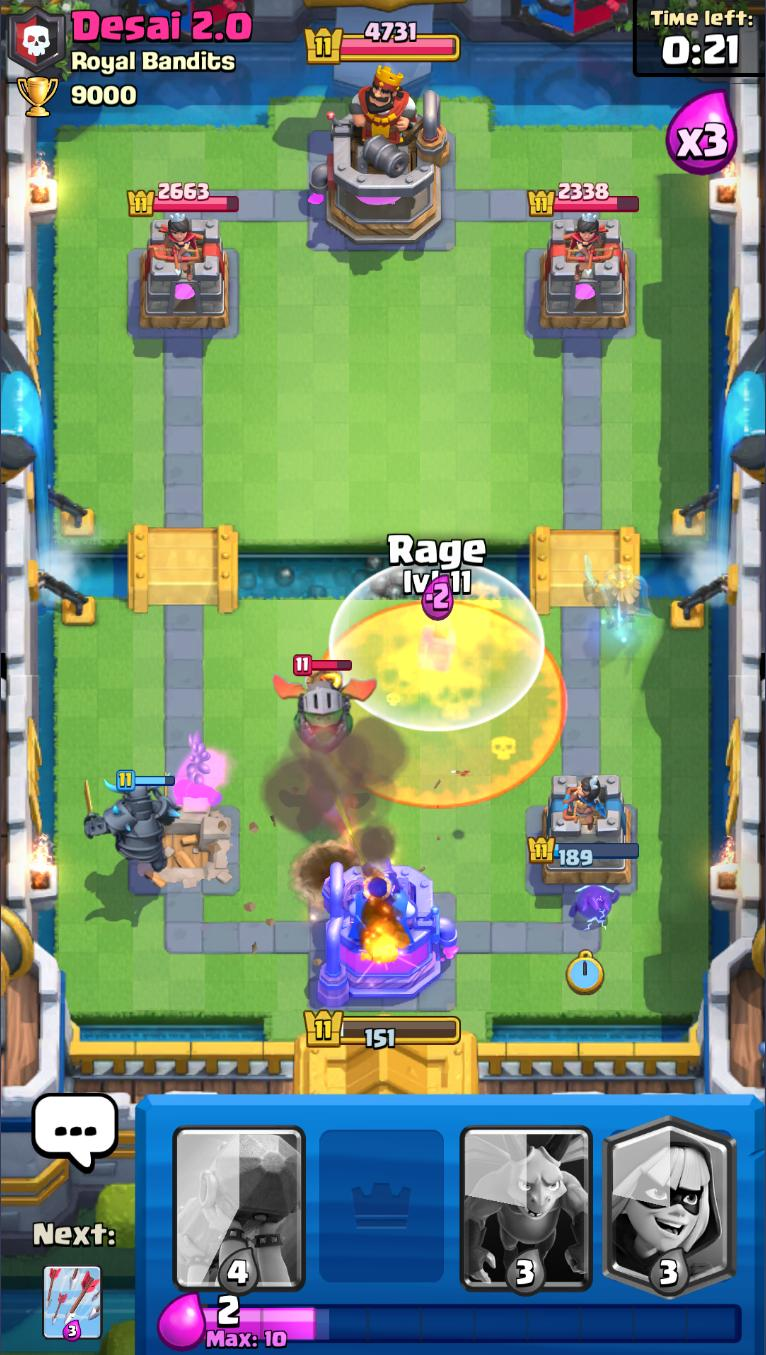ArrowNext: (41, 1264, 104, 1342)
BanditDeck: (598, 1095, 743, 1296)
BattleRamDeck: (166, 1096, 312, 1294)
Elixir: (202, 1294, 743, 1349)
Empty: (312, 1096, 453, 1298)
EnemyTower: (138, 215, 232, 331), (539, 215, 632, 331)
InfernoDragon: (271, 654, 377, 753)
KingTower: (310, 79, 451, 248)
MinionsDeck: (454, 1097, 598, 1296)
MyElectroSpirit: (569, 884, 621, 925)
MyKingHP: (301, 1008, 461, 1049)
MyKingTower: (316, 856, 459, 1009)
MyPekka: (84, 767, 181, 874)
MyPrincessTower: (528, 770, 641, 889)
MyPrincessTowerBrocken: (125, 799, 242, 900)
MyPrincessTowerHP: (527, 835, 641, 868)
MyRoyaleGhost: (583, 549, 652, 634)
Poison: (314, 602, 566, 809)
PrincessTower: (149, 215, 203, 277), (562, 216, 615, 274)
TowerPrincessHP: (127, 182, 240, 217), (528, 182, 641, 216)
